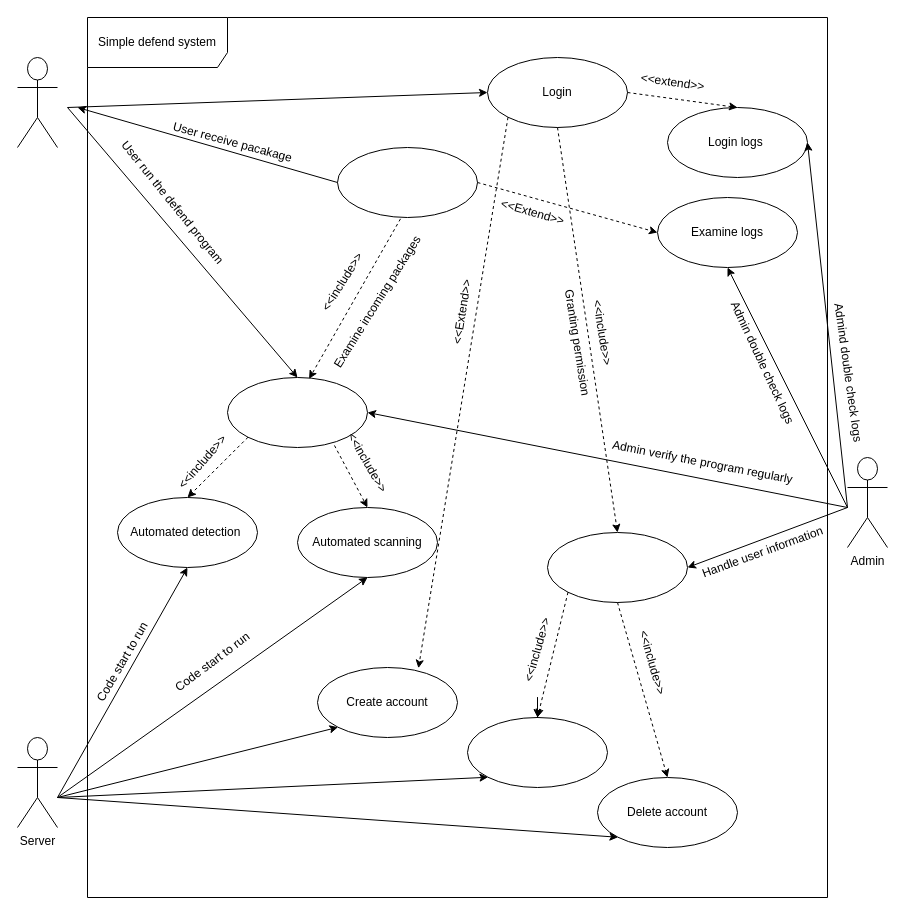
This 905x915 diagram has some shape labels left out. The shapes that lost their labels are listed below. From the top down, each one's centre as x and y in pixels, then its label:
At [37,102]: "Client".
At [407,182]: "Packages".
At [297,412]: "Data analysis".
At [617,567]: "Manage user account".
At [537,752]: "Edit account iniformation".
